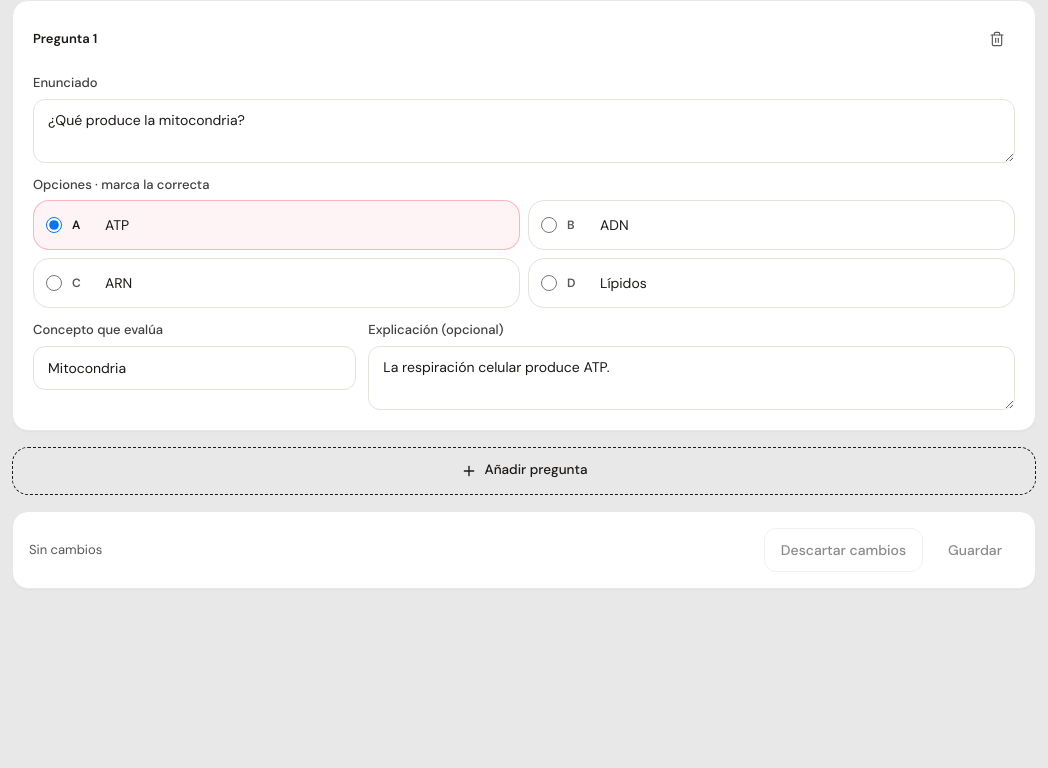
Test: ExamQuestionsEditor › explains a EXAMS_QUESTION_NOT_FOUND refusal and keeps the draft
The image size is (1048, 768).
Replace the text in the text box labelled "Enunciado" with "¿Nueva?" at (524, 130), box [33, 98, 1015, 162]
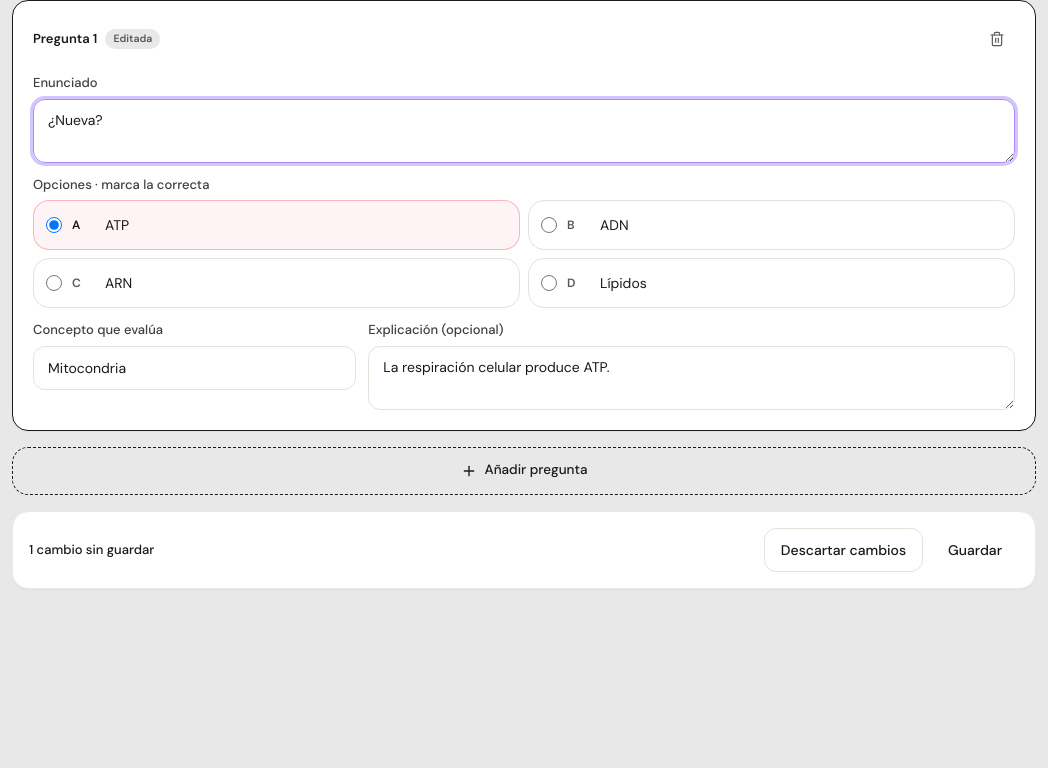
Click the button "Guardar" at (975, 550), box [931, 528, 1019, 572]
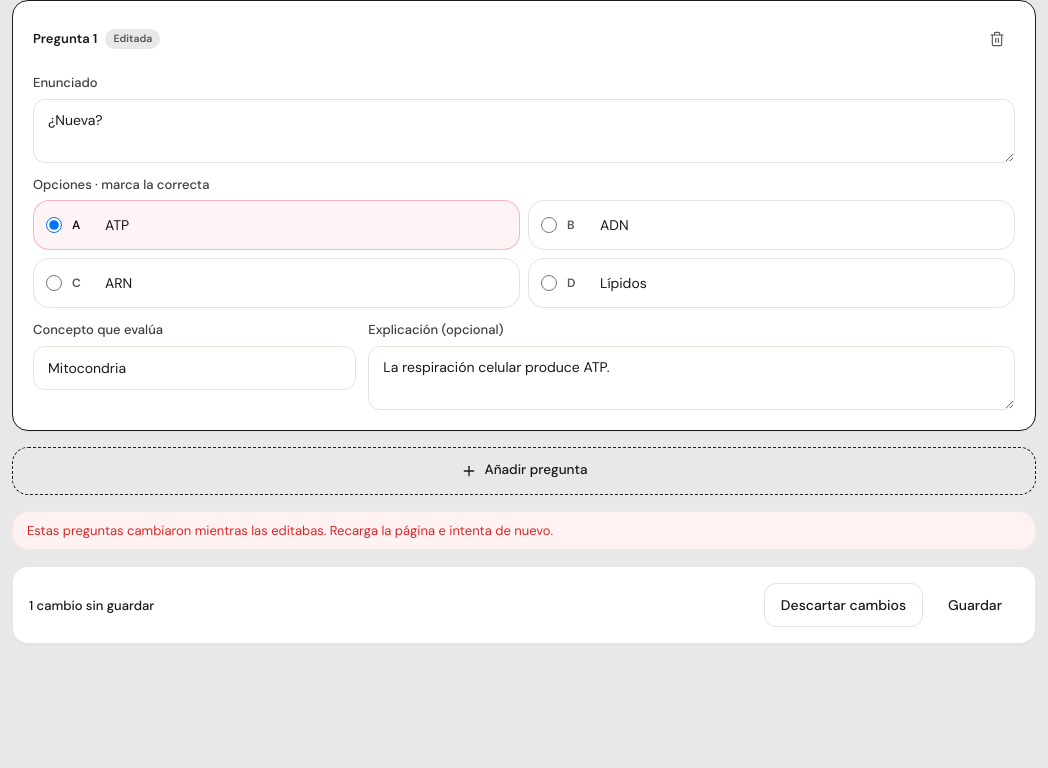
Result: the text "1 cambio sin guardar" is shown at [29, 596, 154, 615]
Result: the message shows "cambiaron mientras las editabas" at [27, 522, 553, 538]
